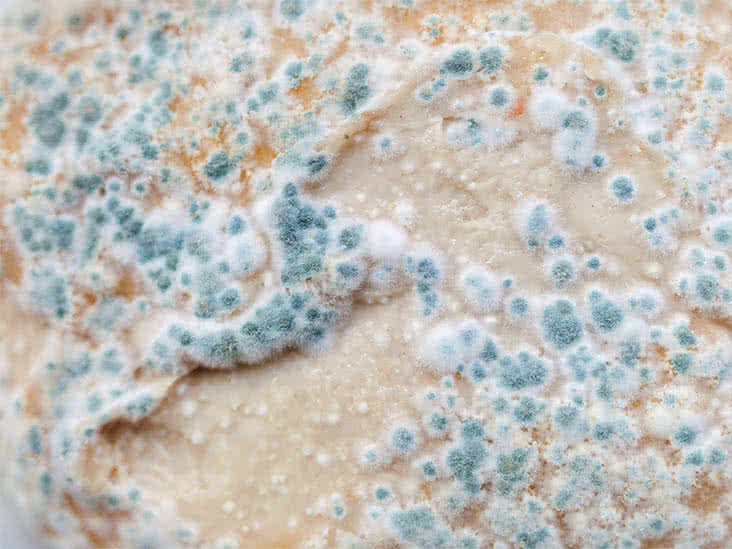Cladosporium: (364, 227, 732, 549), (12, 87, 343, 373), (431, 38, 505, 81), (32, 421, 78, 476), (612, 173, 635, 206)
